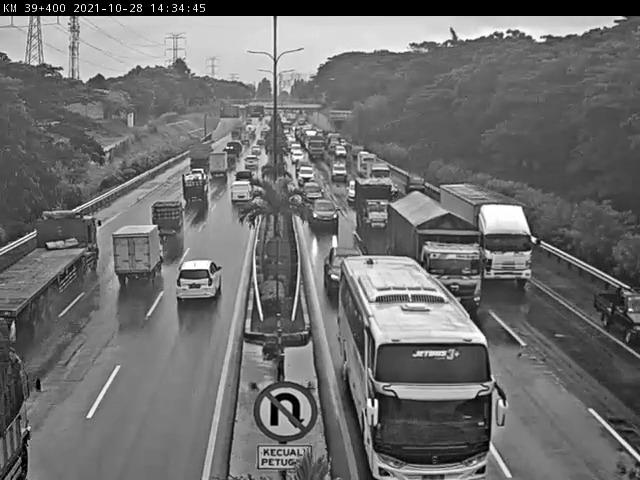big bus: (331, 253, 508, 479)
big truck: (0, 200, 107, 340), (392, 192, 484, 311), (471, 190, 548, 291)
car: (596, 275, 640, 350), (174, 254, 226, 306), (323, 245, 368, 292), (151, 194, 188, 240), (308, 198, 345, 238), (225, 176, 253, 212)
small truck: (108, 222, 165, 286), (356, 172, 395, 232), (176, 170, 216, 210)
